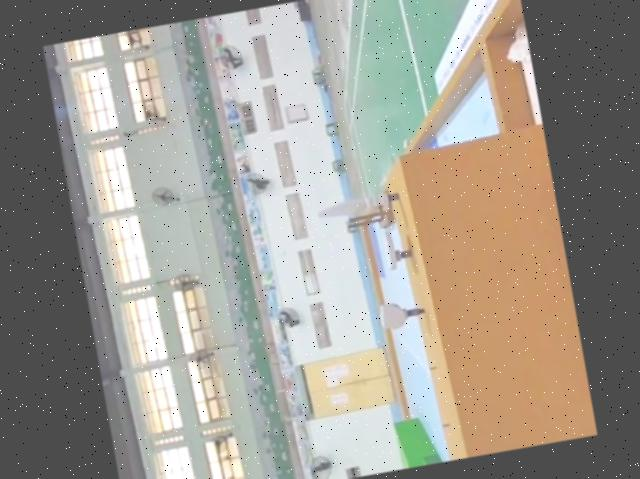Fist: (376, 296, 426, 332)
Hand: (378, 225, 418, 276)
Sph: (313, 184, 404, 220)
